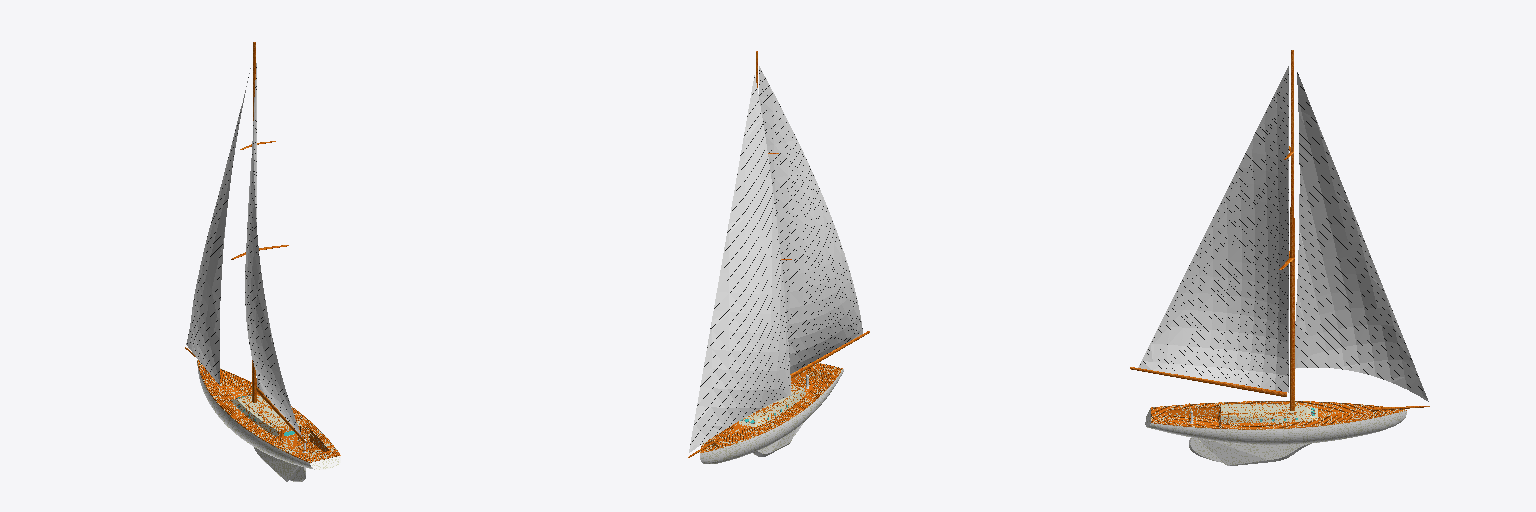
3 views of the same model, side by side, from view 1: azimuth 30°, elevation 25°; view 2: azimuth 150°, elevation 25°; view 3: azimuth 270°, elevation 25° (orthographic).
Visible parts, largest first — view 1: mesh1_mesh1-geometry, mesh6_mesh6-geometry, mesh25_mesh25-geometry, mesh38_mesh38-geometry, mesh86_mesh86-geometry, mesh2_mesh2-geometry; view 2: mesh6_mesh6-geometry, mesh1_mesh1-geometry, mesh25_mesh25-geometry, mesh86_mesh86-geometry, mesh38_mesh38-geometry; view 3: mesh1_mesh1-geometry, mesh6_mesh6-geometry, mesh60_mesh60-geometry, mesh38_mesh38-geometry, mesh25_mesh25-geometry, mesh2_mesh2-geometry, mesh61_mesh61-geometry.
Part boxes in pixels (x1,y1,x2,y2): mesh1_mesh1-geometry: (245,63,301,436); mesh6_mesh6-geometry: (186,68,250,384); mesh25_mesh25-geometry: (198,362,324,462); mesh38_mesh38-geometry: (198,361,339,458); mesh86_mesh86-geometry: (197,363,314,469); mesh2_mesh2-geometry: (185,42,305,442); mesh6_mesh6-geometry: (689,75,790,452); mesh1_mesh1-geometry: (759,66,862,373); mesh25_mesh25-geometry: (703,365,841,451); mesh86_mesh86-geometry: (700,369,843,463); mesh38_mesh38-geometry: (701,363,826,451); mesh1_mesh1-geometry: (1138,66,1288,392); mesh6_mesh6-geometry: (1295,72,1428,401); mesh60_mesh60-geometry: (1147,411,1406,444); mesh38_mesh38-geometry: (1151,410,1398,428); mesh25_mesh25-geometry: (1151,402,1402,425); mesh2_mesh2-geometry: (1130,50,1429,410); mesh61_mesh61-geometry: (1198,439,1311,465).
Size of the model in its own units: 0.1406 by 0.826 by 0.5413.
8 materials, 3 textured.